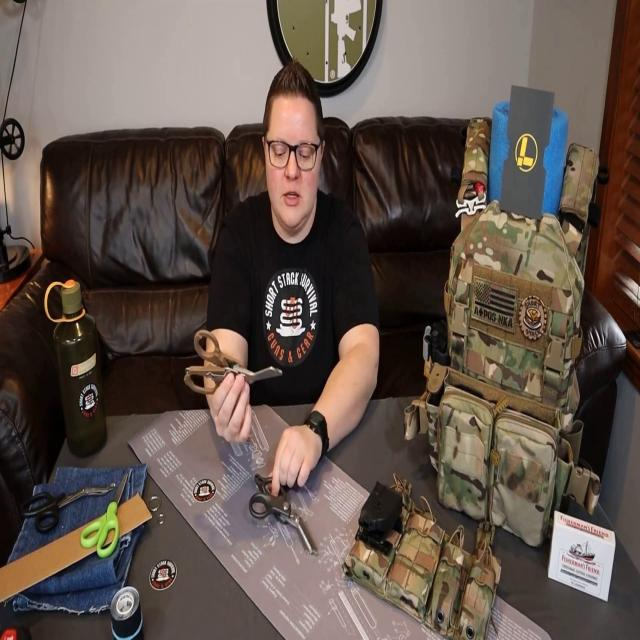scissor: (184, 328, 282, 395), (249, 474, 318, 556), (19, 481, 116, 534), (80, 470, 127, 558)
